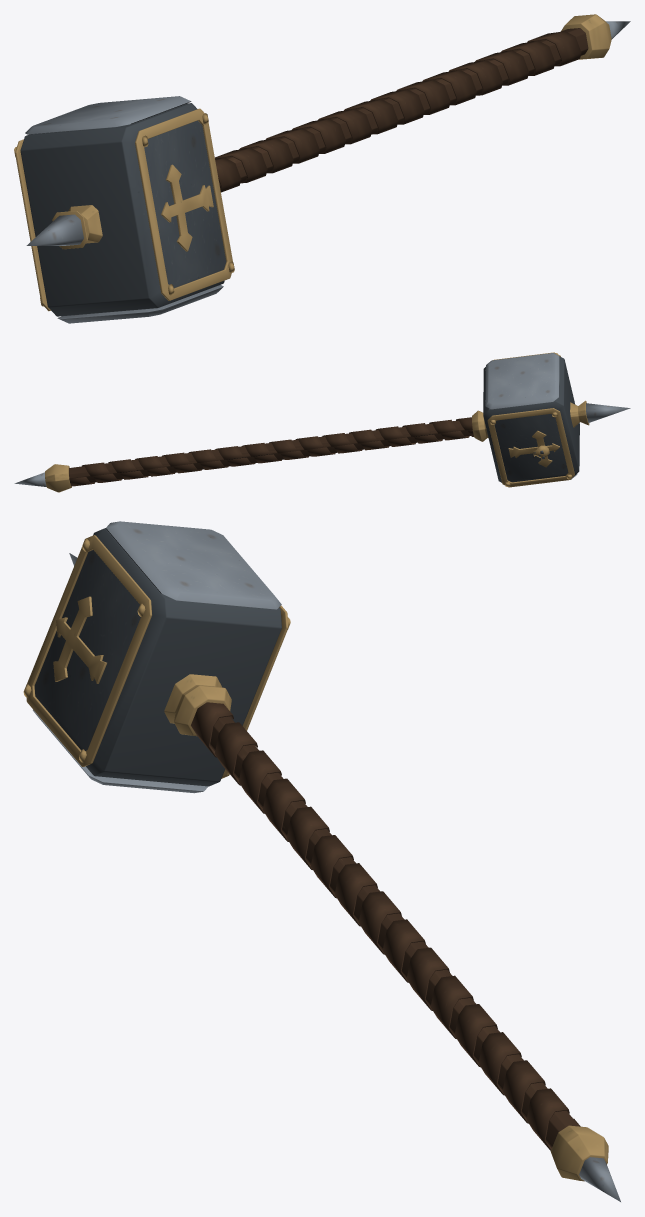
The model's file is wep_civic_battle_prelate_dawn_maul.glb.
3 views of the same model, one above another, from view 1: azimuth 30°, elevation 25°; view 2: azimuth 150°, elevation 25°; view 3: azimuth 270°, elevation 25° (orthographic). The views are drawn at different scales.
Parts seen in each view (by area): view 1: battle_prelate_weapon_lod0; view 2: battle_prelate_weapon_lod0; view 3: battle_prelate_weapon_lod0.
Boxes of the visible parts, box(x1,y1,x2,y2) form: battle_prelate_weapon_lod0: box(14, 14, 630, 323); battle_prelate_weapon_lod0: box(14, 352, 630, 492); battle_prelate_weapon_lod0: box(23, 521, 620, 1201).
Bounding box in the file's own units: 1.59 × 0.4577 × 0.8591.
Materials: 1 (1 with a texture image).
